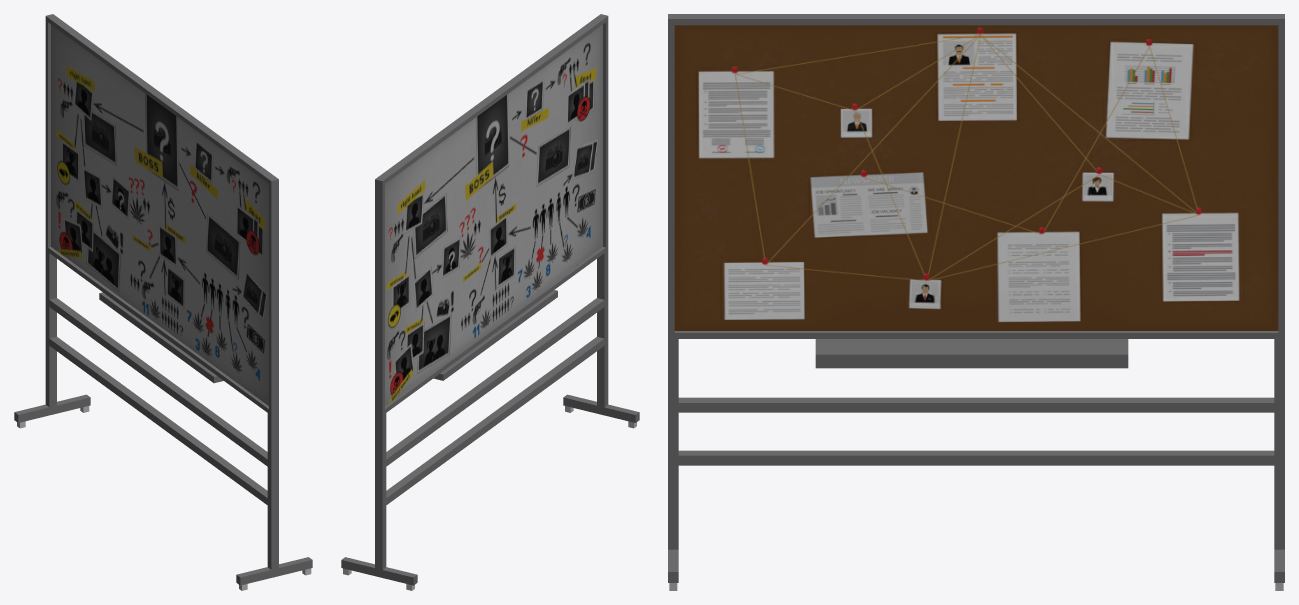
File: WritingBoard.fbx
3 renders of one model, left to right at view 1: azimuth 30°, elevation 25°; view 2: azimuth 150°, elevation 25°; view 3: azimuth 270°, elevation 25°, orthographic. The views are drawn at different scales.
Visible parts, largest first — view 1: WritingBoard; view 2: WritingBoard; view 3: WritingBoard.
Part boxes in pixels (box(x1,y1,x2,y2)): WritingBoard: box(14, 14, 312, 590); WritingBoard: box(341, 14, 639, 590); WritingBoard: box(668, 14, 1284, 590).
Size of the model in its own units: 34.61 by 184 by 187.
